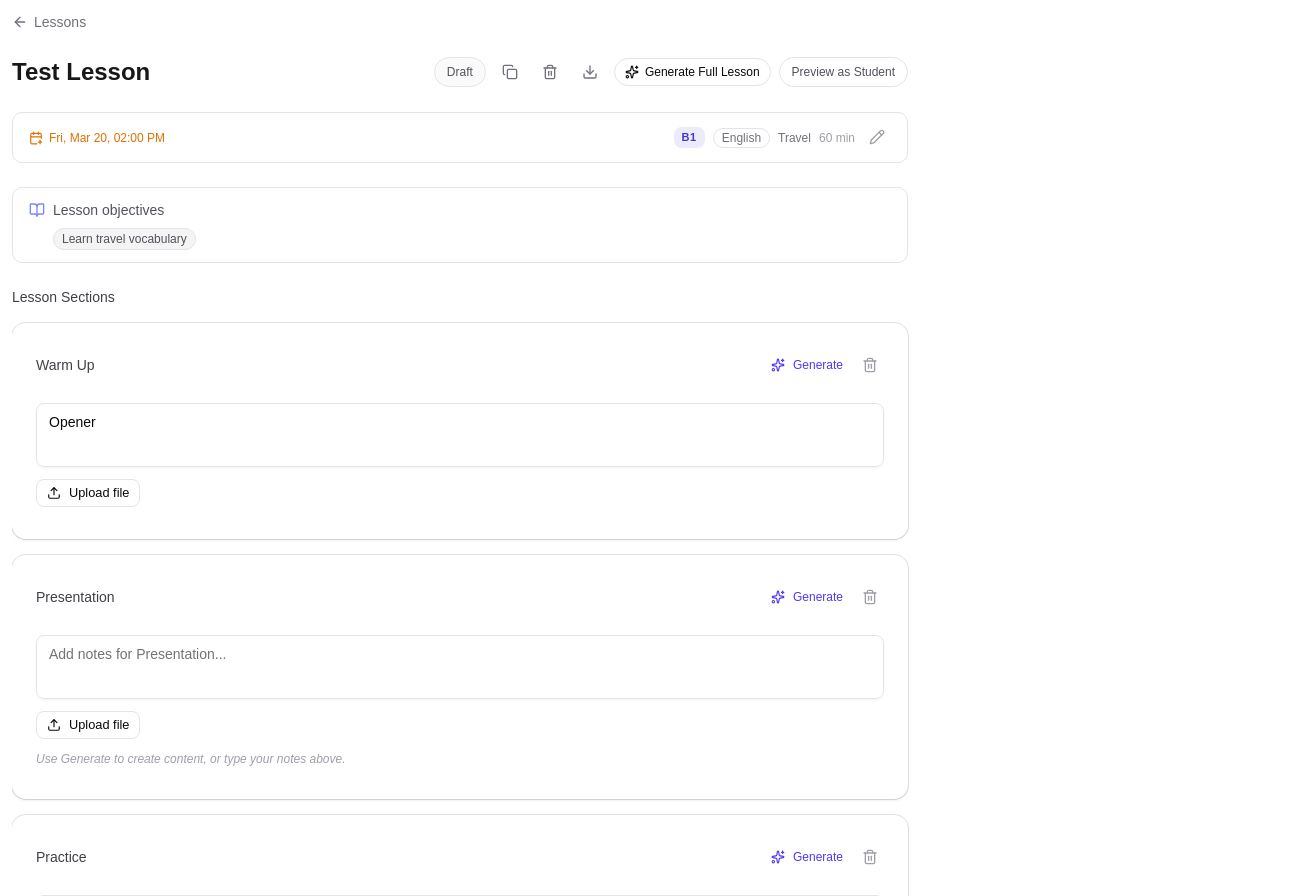
Test case: LessonEditor › Save indicator › shows "All changes saved" after a successful section save
Expected: the button with test id "lesson-title" is shown, [12,58,150,85]
Replace the text in the text box with test id "section-warmup" with "updated notes". click: (460, 435)
box: [36,403,884,467]
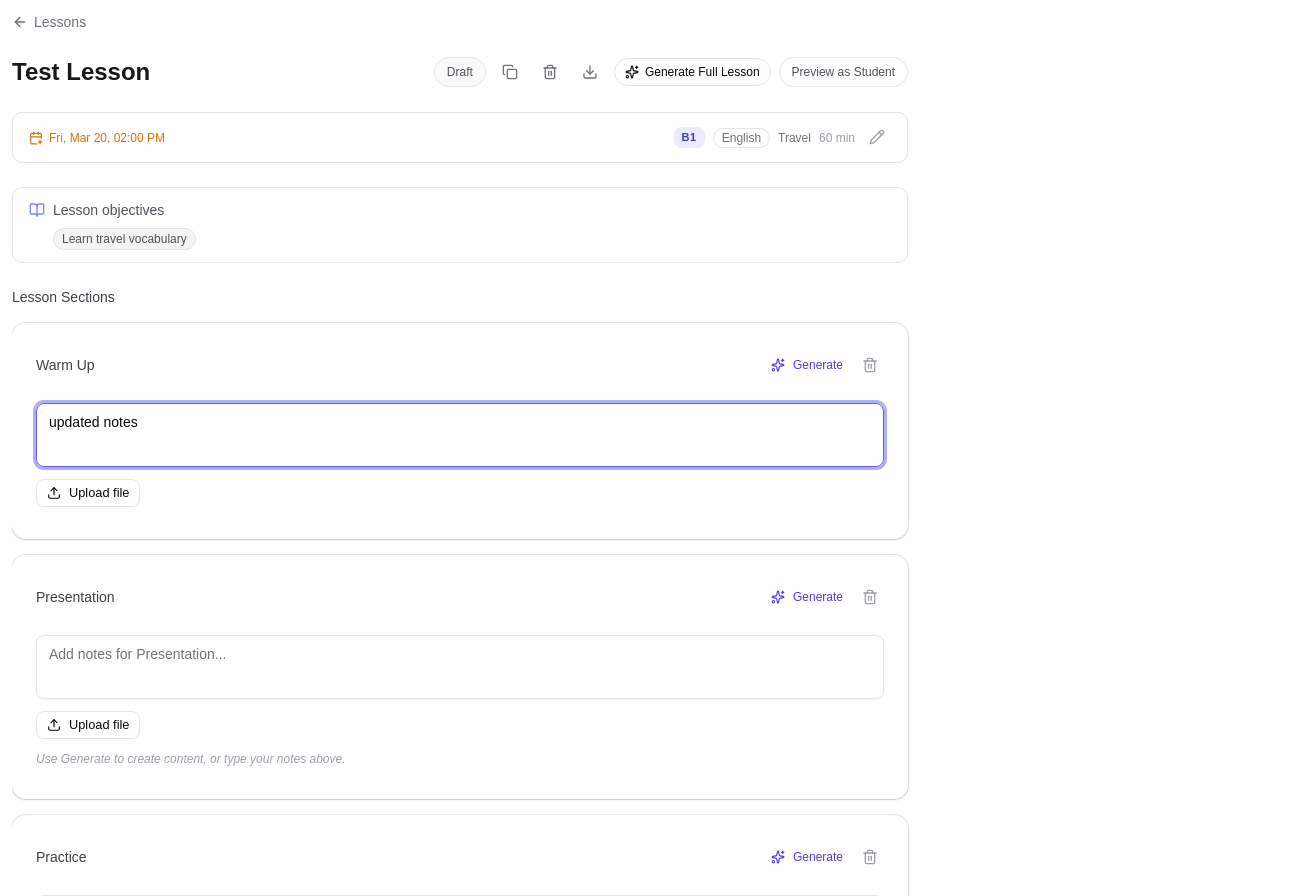
Press Tab
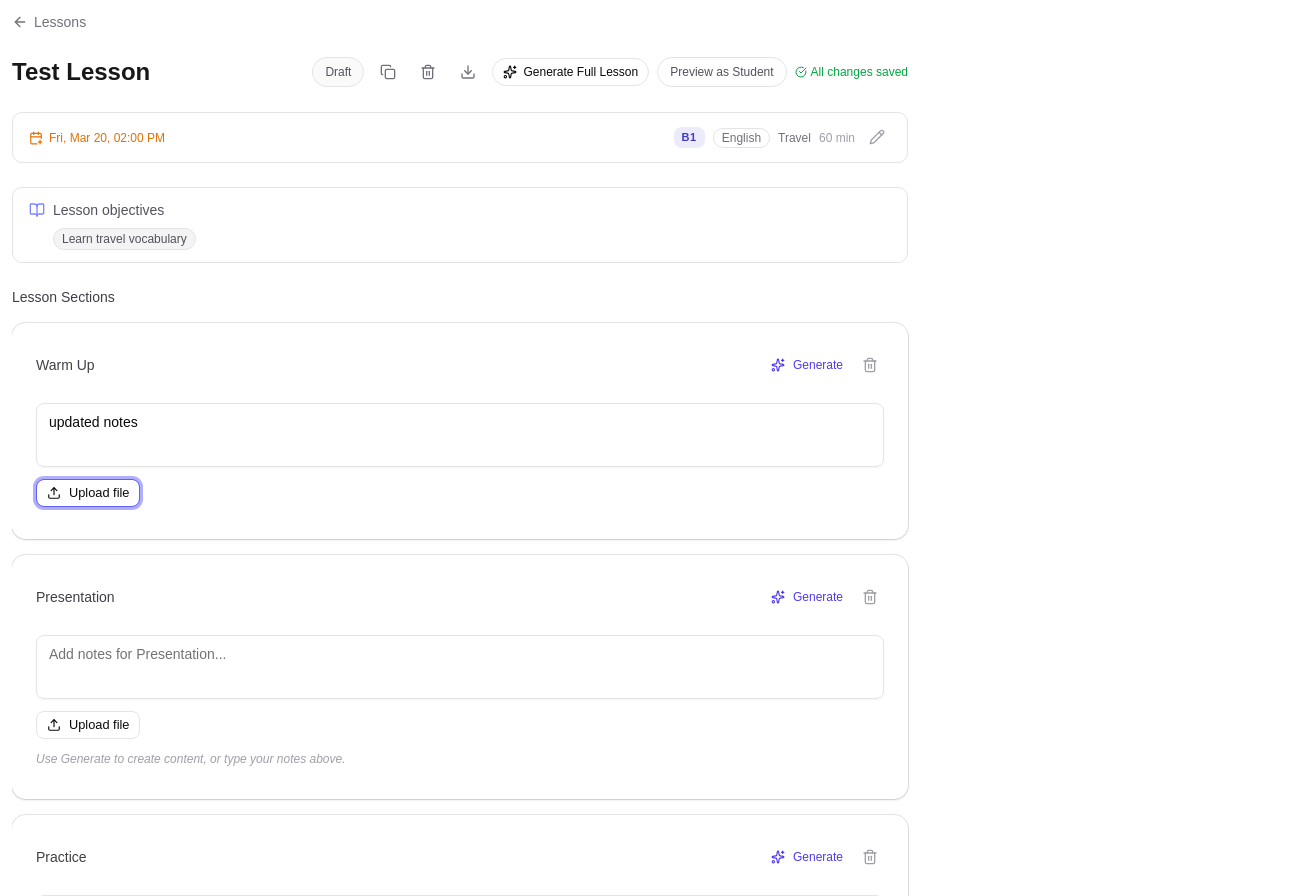
Expected: the text "All changes saved" is shown, [795,64,908,80]
